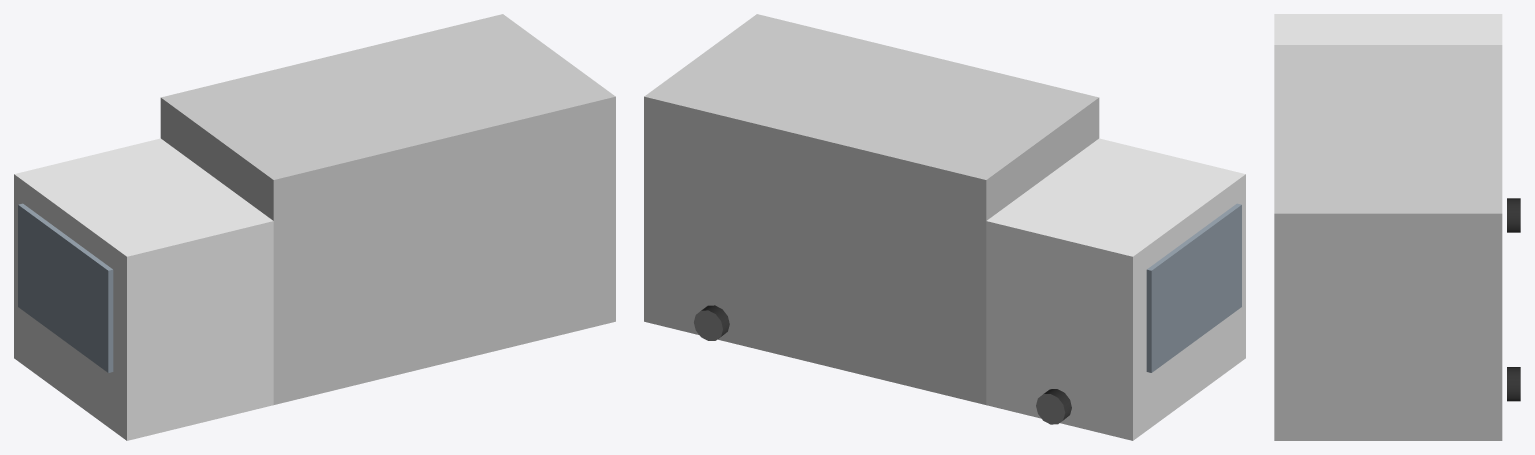
File: env-mod-van.glb
3 renders of one model, left to right at view 1: azimuth 30°, elevation 25°; view 2: azimuth 150°, elevation 25°; view 3: azimuth 270°, elevation 25°, orthographic.
Size of the model in its own units: 5.08 by 2.2 by 2.16.
